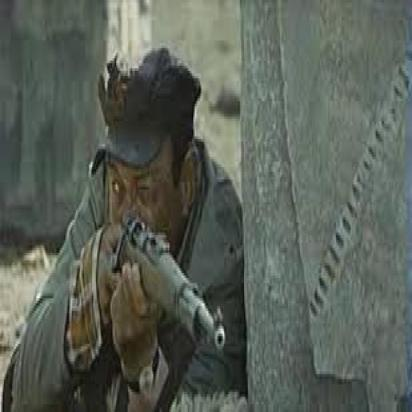Gun: (110, 214, 226, 359)
